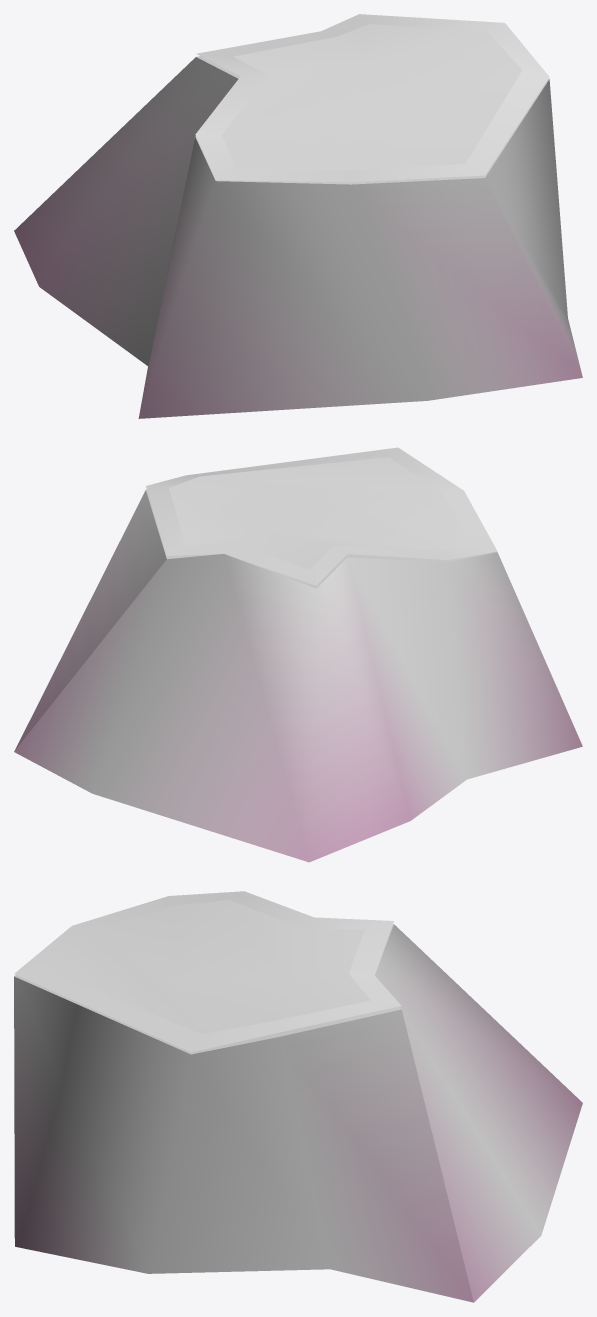
Rendered from BeackRock_01.fbx.
3 views of the same model, one above another, from view 1: azimuth 30°, elevation 25°; view 2: azimuth 150°, elevation 25°; view 3: azimuth 270°, elevation 25° (orthographic). The views are drawn at different scales.
Visible parts, largest first — view 1: Rock, SandTopper; view 2: Rock, SandTopper; view 3: Rock, SandTopper.
Boxes of the visible parts, <box> form: Rock: <box>14,56,582,418</box>; SandTopper: <box>195,14,549,182</box>; Rock: <box>14,489,582,862</box>; SandTopper: <box>146,447,496,585</box>; Rock: <box>14,924,582,1302</box>; SandTopper: <box>14,891,401,1052</box>.
Bounding box in the file's own units: 1126 × 559 × 1147.
